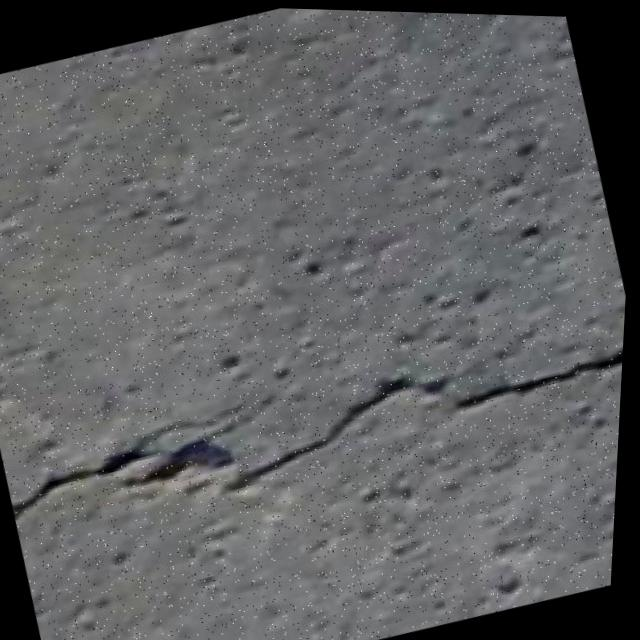Crack: (4, 296, 628, 566)
